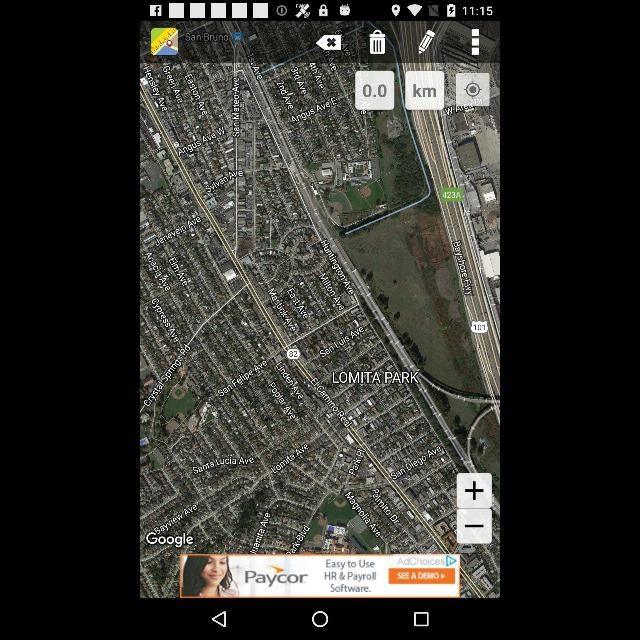icon: (369, 31, 385, 54), (419, 31, 435, 54), (316, 35, 340, 49), (312, 610, 328, 628), (466, 80, 480, 100), (212, 610, 226, 628), (414, 612, 428, 626), (472, 29, 478, 55)
image: (152, 28, 178, 56)
map: (140, 64, 500, 598)
panel: (140, 598, 500, 640)
uppertaskbar: (140, 0, 500, 20)
